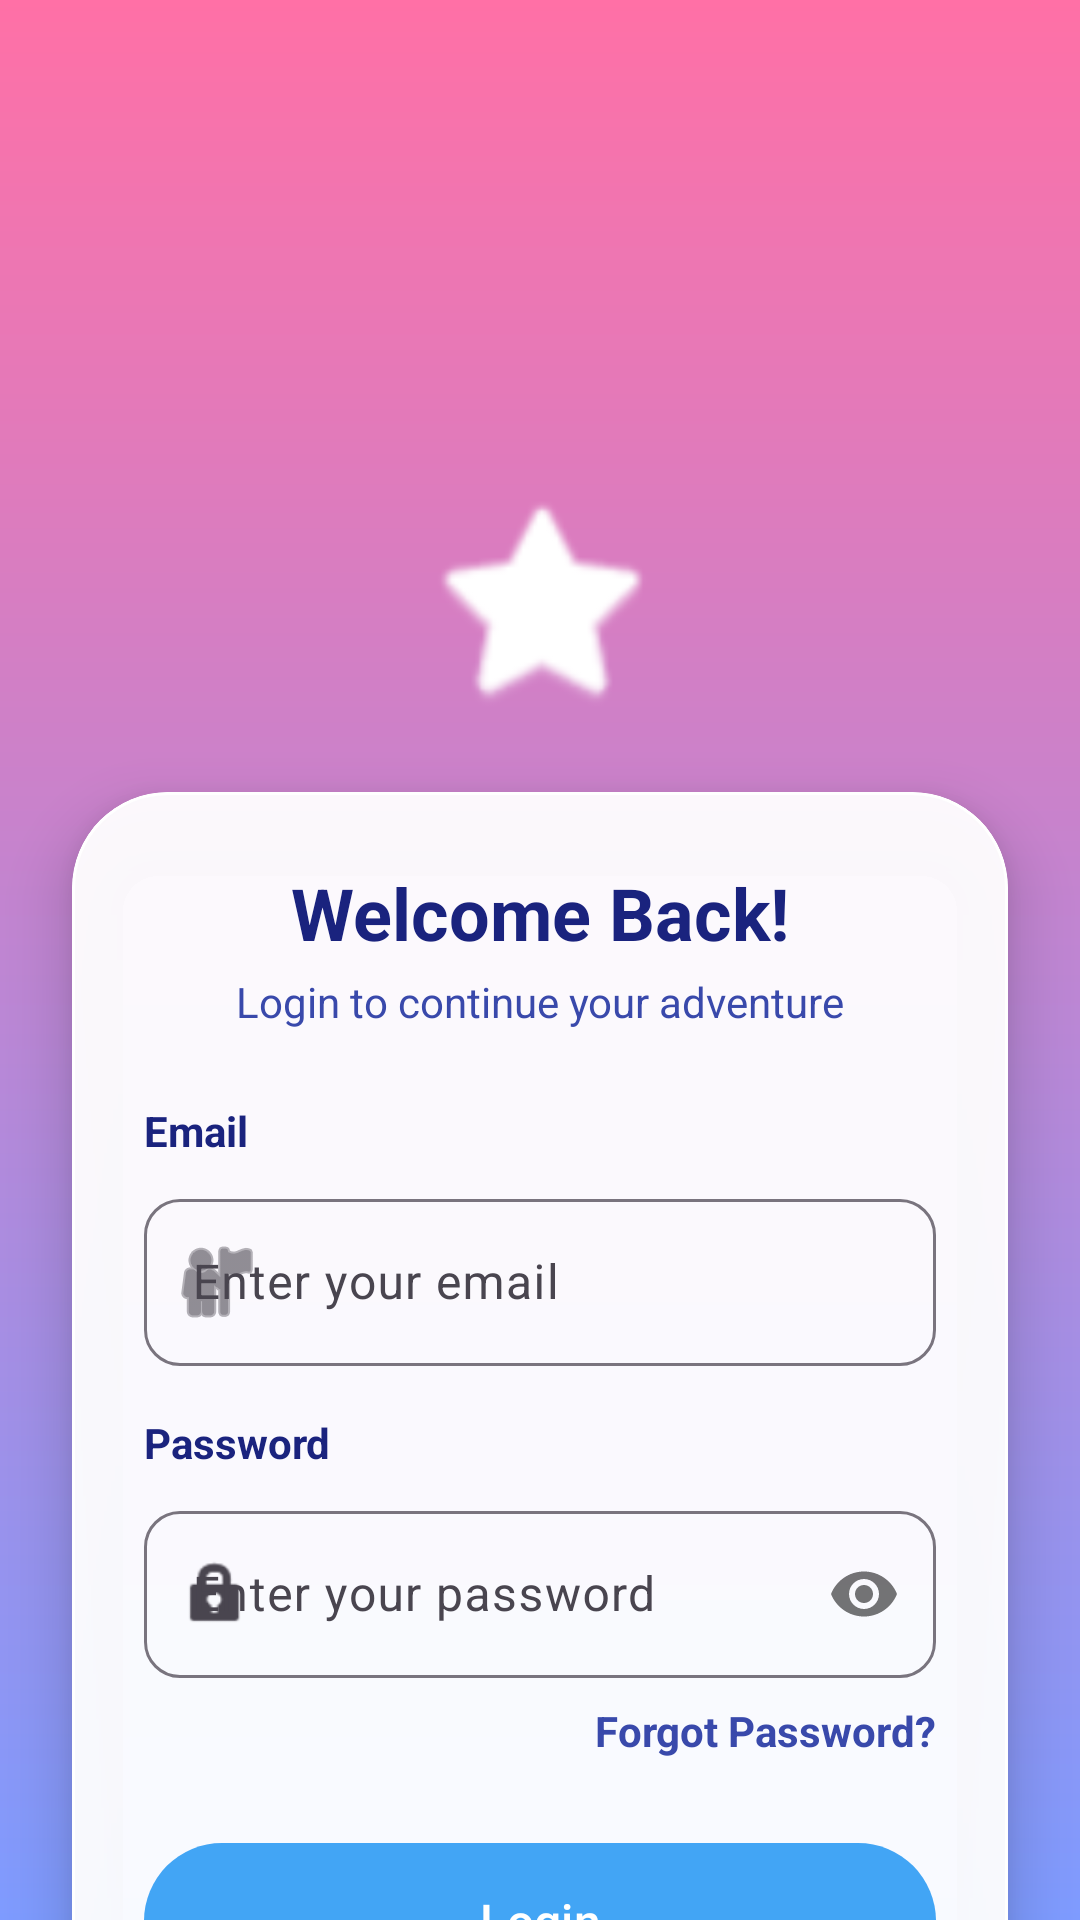

Named icons in this screenshot (1080px x 1920px) and their bounding boxes, [x1=x1, y1=y1, x2=x2, y2=y2]:
star on: [x1=443, y1=506, x2=642, y2=698]
